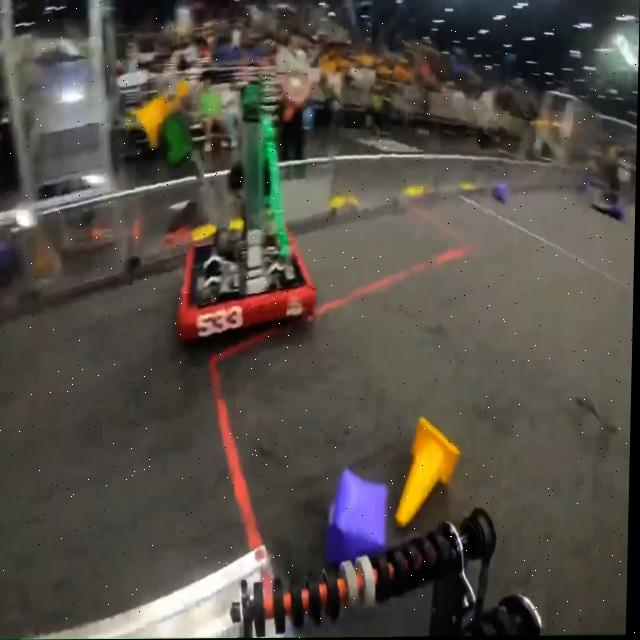robot: (159, 77, 324, 343)
